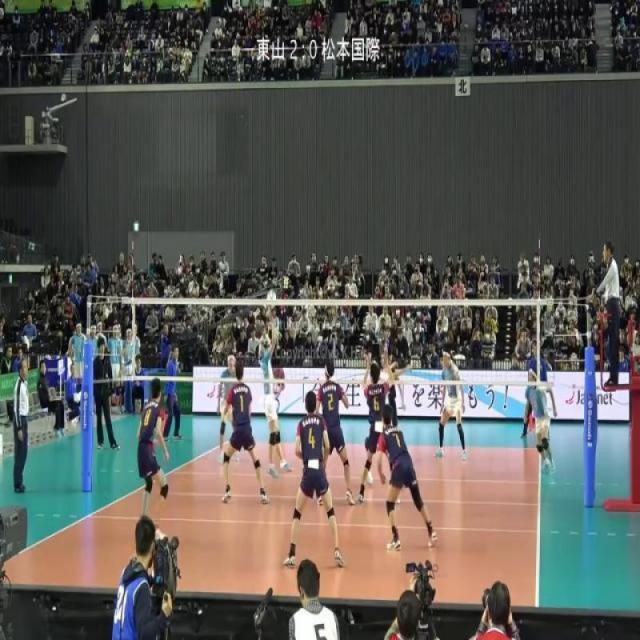volleyball: (266, 289, 277, 302)
